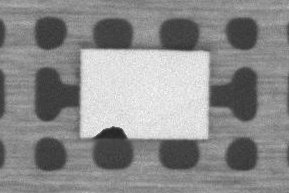DIE_BROKEN: (91, 125, 129, 141)
